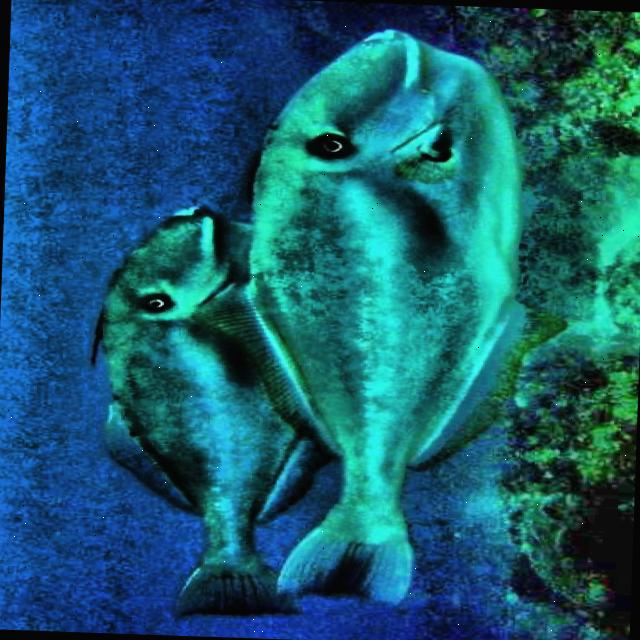fish: (180, 22, 568, 610), (82, 204, 342, 618)
